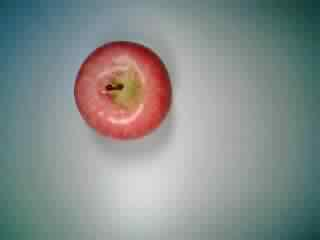apple: (76, 38, 171, 140)
